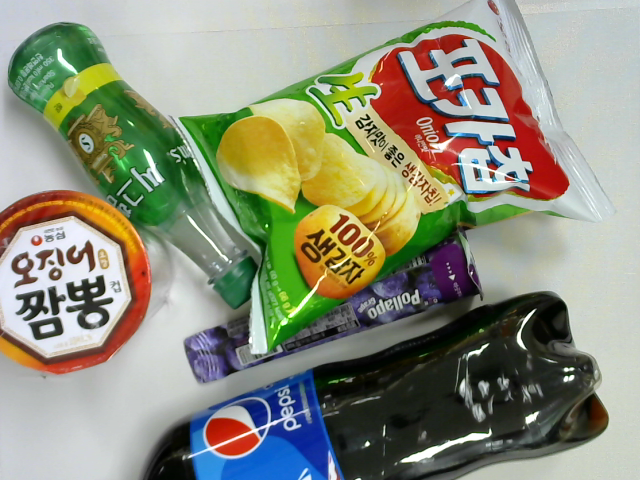Ojjam: (1, 189, 178, 372)
Pepsi_Cola_1.5L: (136, 290, 611, 480)
Pocachip_Onion: (168, 1, 623, 356)
Polapo_Grape: (184, 226, 485, 386)
Seagram_Lemon_Carbonated_Water: (5, 16, 264, 307)
